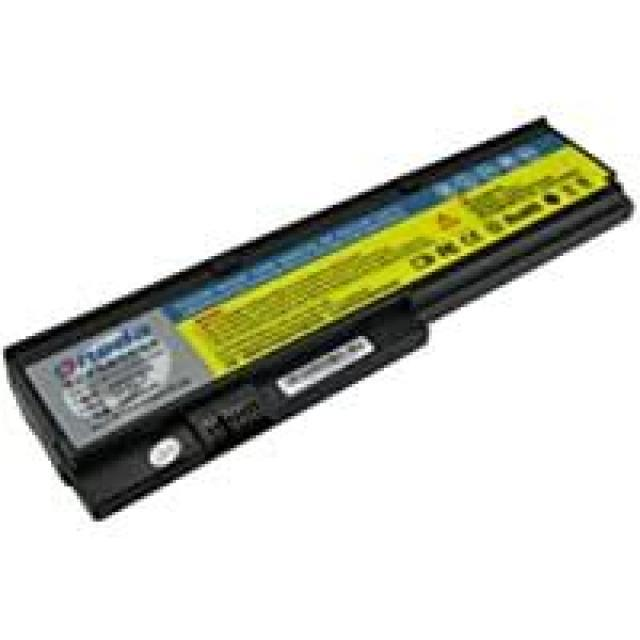battery: (6, 110, 636, 524)
